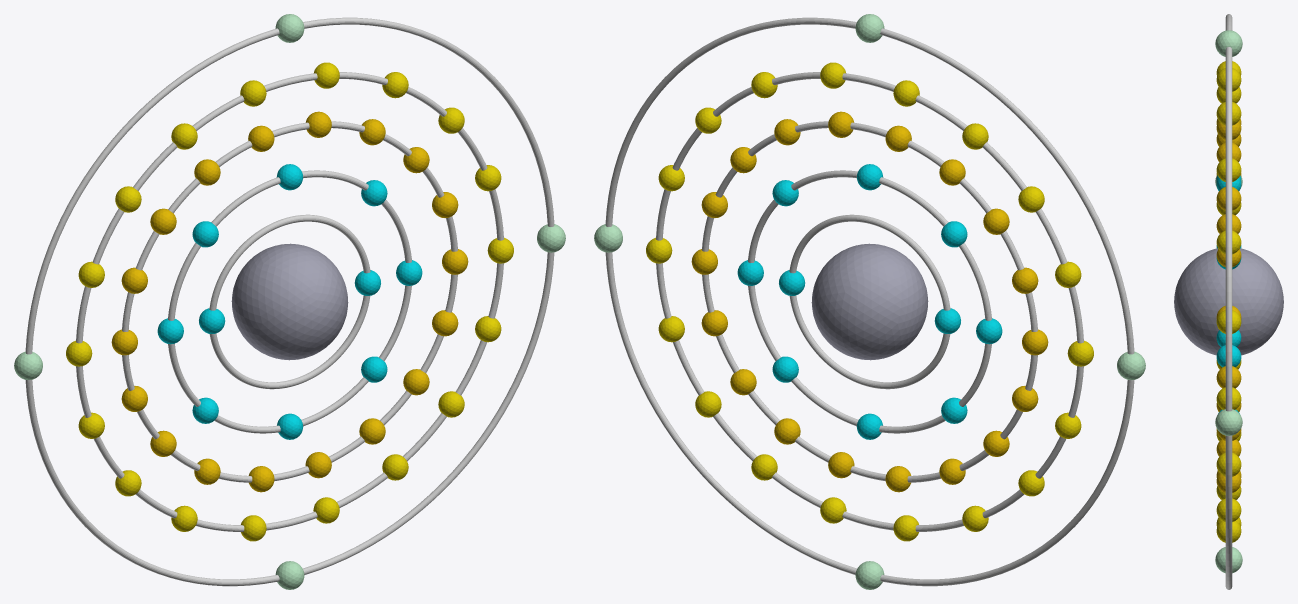
3 renders of one model, left to right at view 1: azimuth 30°, elevation 25°; view 2: azimuth 150°, elevation 25°; view 3: azimuth 270°, elevation 25°, orthographic. The views are drawn at different scales.
Visible parts, largest first — view 1: Camada_5, Nucleo_Sn, Camada_4, Camada_3, Camada_2, Camada_1; view 2: Camada_5, Nucleo_Sn, Camada_4, Camada_3, Camada_2, Camada_1; view 3: Nucleo_Sn, Camada_5, e5_1, e5_2, e5_4, e4_3, e4_18, e4_17, e4_5, e3_4, e4_4, e4_2 (+14 smaller).
Part boxes in pixels (left/top/right/bottom): Camada_5: left=25, top=17, right=554, bottom=586; Nucleo_Sn: left=231, top=243, right=348, bottom=360; Camada_4: left=76, top=72, right=503, bottom=531; Camada_3: left=122, top=121, right=457, bottom=482; Camada_2: left=168, top=170, right=411, bottom=433; Camada_1: left=209, top=214, right=370, bottom=389; Camada_5: left=605, top=17, right=1134, bottom=586; Nucleo_Sn: left=811, top=243, right=928, bottom=360; Camada_4: left=656, top=72, right=1083, bottom=531; Camada_3: left=702, top=121, right=1037, bottom=482; Camada_2: left=748, top=170, right=991, bottom=433; Camada_1: left=789, top=214, right=950, bottom=389; Nucleo_Sn: left=1174, top=248, right=1283, bottom=355; Camada_5: left=1225, top=14, right=1232, bottom=589; e5_1: left=1215, top=409, right=1242, bottom=435; e5_2: left=1215, top=30, right=1242, bottom=56; e5_4: left=1215, top=547, right=1242, bottom=573; e4_3: left=1216, top=230, right=1241, bottom=254; e4_18: left=1216, top=452, right=1241, bottom=476; e4_17: left=1216, top=498, right=1241, bottom=521; e4_5: left=1216, top=102, right=1241, bottom=125; e3_4: left=1216, top=187, right=1241, bottom=210; e4_4: left=1216, top=158, right=1241, bottom=181; e4_2: left=1216, top=310, right=1241, bottom=333.
Size of the model in its own units: 2.39 by 2.39 by 0.44.
